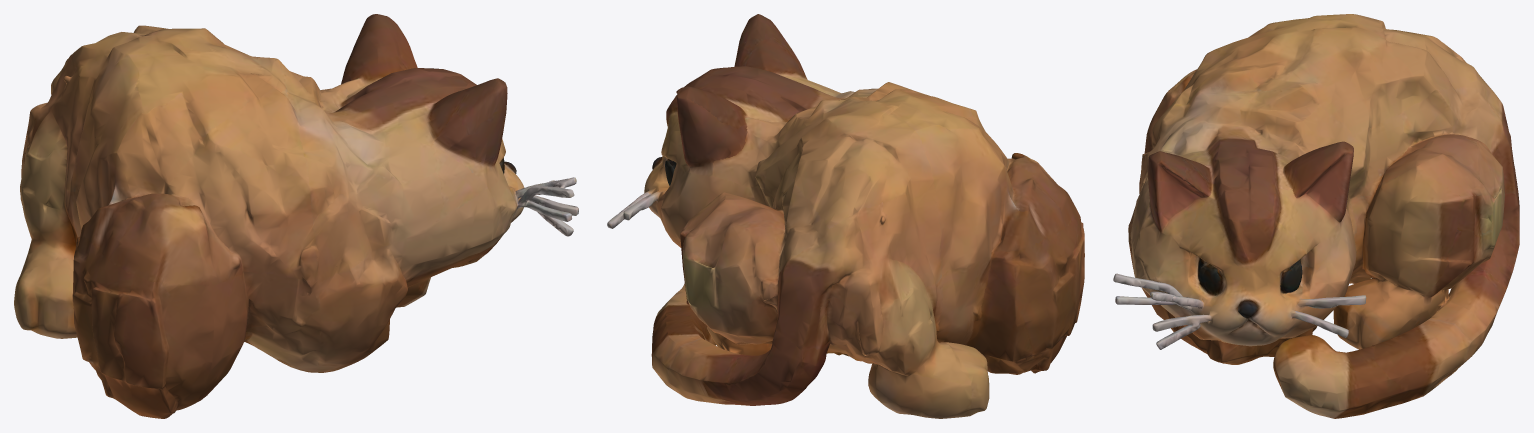
The model's file is cat-web.glb.
3 views of the same model, side by side, from view 1: azimuth 30°, elevation 25°; view 2: azimuth 150°, elevation 25°; view 3: azimuth 270°, elevation 25° (orthographic). The views are drawn at different scales.
Visible parts, largest first — view 1: tripo_node_f72b7d03-5a52-487a-be58-f72c1ed4e8d6; view 2: tripo_node_f72b7d03-5a52-487a-be58-f72c1ed4e8d6; view 3: tripo_node_f72b7d03-5a52-487a-be58-f72c1ed4e8d6.
Part boxes in pixels (<box>): tripo_node_f72b7d03-5a52-487a-be58-f72c1ed4e8d6: <box>14,14,578,418</box>; tripo_node_f72b7d03-5a52-487a-be58-f72c1ed4e8d6: <box>607,14,1084,418</box>; tripo_node_f72b7d03-5a52-487a-be58-f72c1ed4e8d6: <box>1113,14,1519,418</box>.
Bounding box in the file's own units: 0.9997 × 0.6541 × 0.8297.
1 material, 1 textured.
